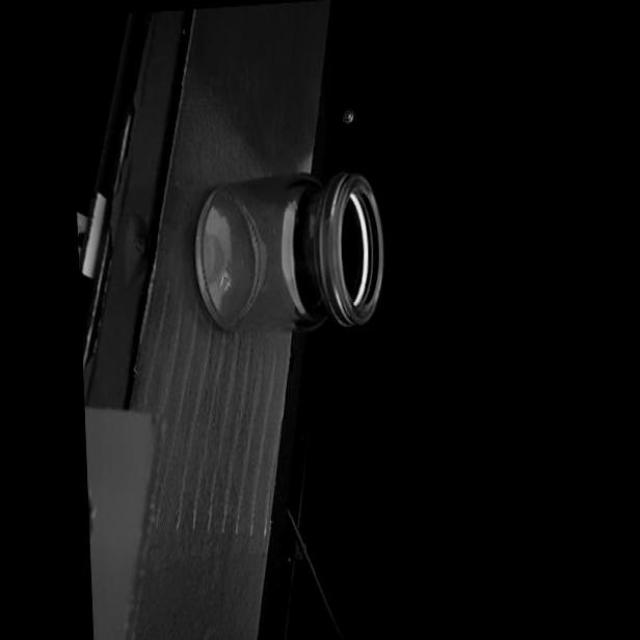defect: (290, 199, 298, 210), (294, 215, 298, 224)
glass: (191, 164, 387, 336)
